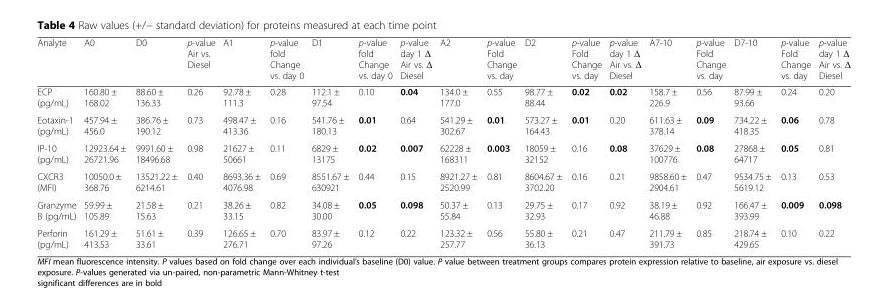table: (36, 36, 850, 249)
table column: (79, 36, 130, 249), (130, 36, 181, 249), (218, 36, 264, 249), (307, 36, 353, 249), (435, 36, 481, 249), (520, 36, 566, 249), (644, 36, 690, 249), (729, 36, 775, 249), (36, 36, 79, 249), (264, 36, 307, 249), (353, 36, 395, 249), (395, 36, 435, 249), (604, 36, 644, 249), (481, 36, 520, 249), (690, 36, 729, 249), (775, 36, 814, 249), (566, 36, 604, 249), (181, 36, 218, 249), (814, 36, 850, 249)
table column header: (36, 36, 850, 82)
table row: (36, 36, 850, 82), (36, 110, 850, 139), (36, 195, 850, 224), (36, 82, 850, 110), (36, 139, 850, 167), (36, 167, 850, 195), (36, 224, 850, 249)
